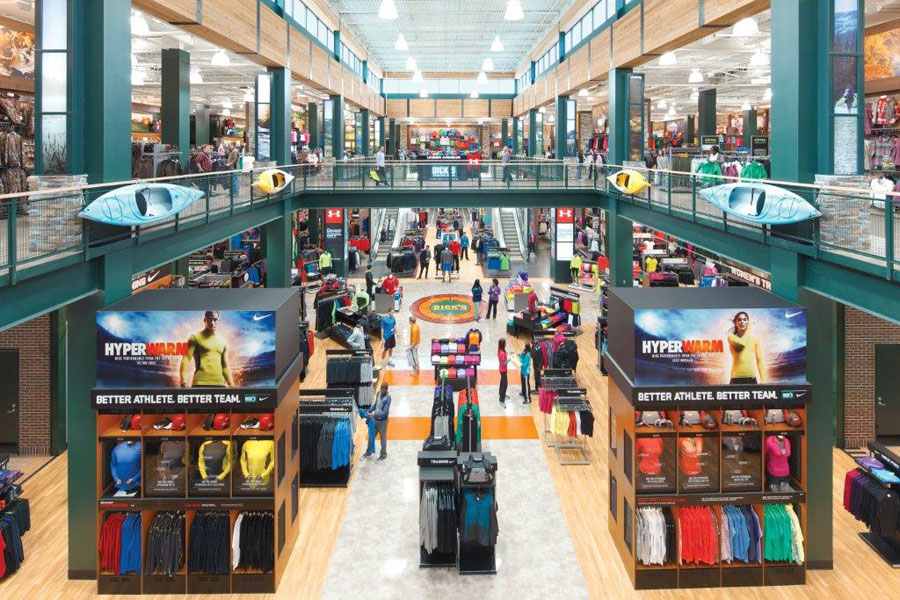Age_30_40: (463, 119, 584, 279)
Age_above_50: (463, 119, 584, 279)
Age_below20: (463, 119, 584, 279), (299, 263, 444, 372)
Emotion_Neutral: (463, 119, 584, 279), (299, 263, 444, 372)
Not_Face: (299, 263, 444, 372)
